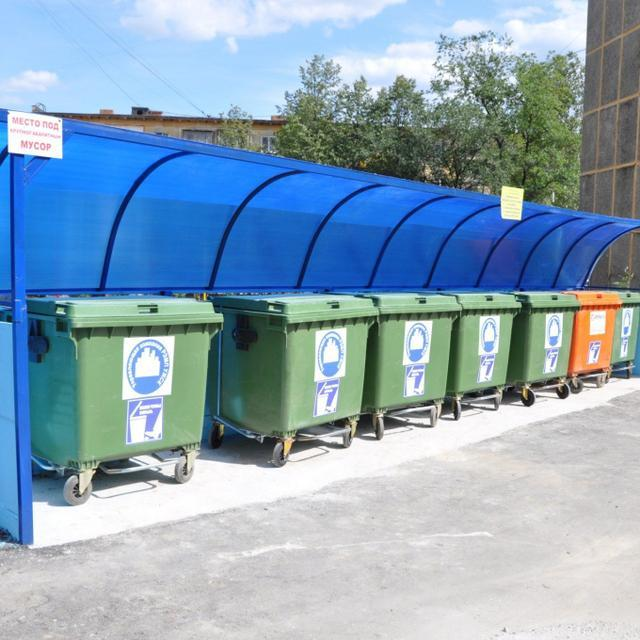Trash_Can_Closed: (6, 293, 224, 464), (214, 293, 378, 435), (361, 291, 462, 409), (440, 290, 523, 393), (507, 290, 581, 383), (561, 291, 623, 374), (608, 291, 640, 363)
